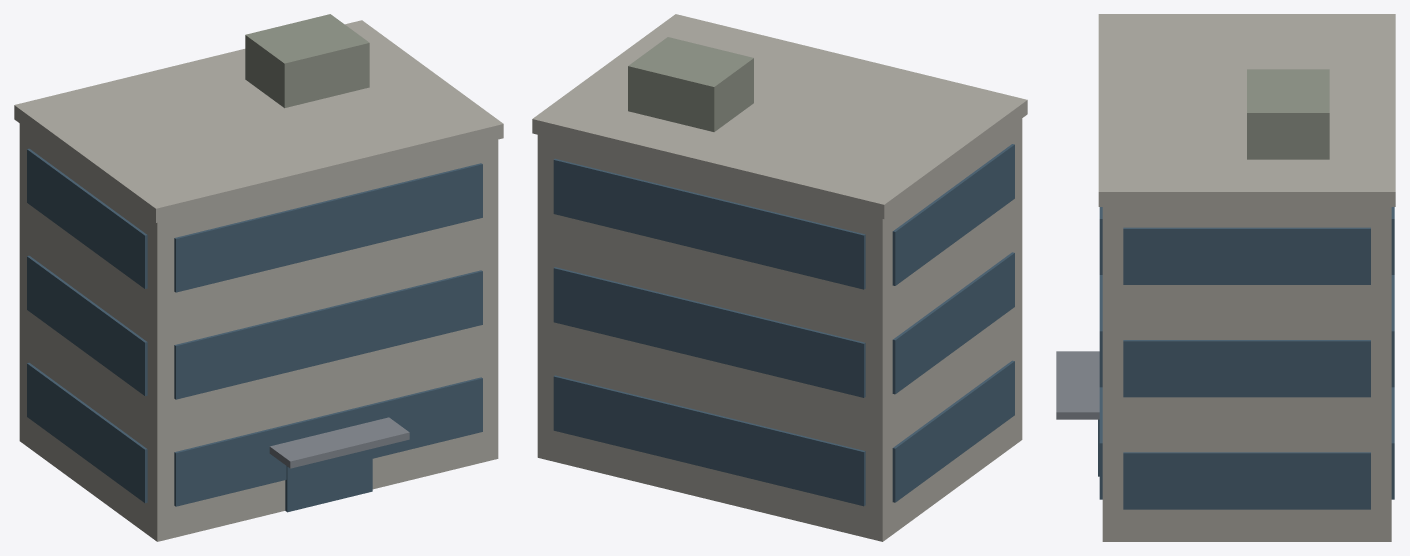
File: office_low.glb
3 renders of one model, left to right at view 1: azimuth 30°, elevation 25°; view 2: azimuth 150°, elevation 25°; view 3: azimuth 270°, elevation 25°, orthographic. The views are drawn at different scales.
Parts seen in each view (by area): view 1: office_low_mesh; view 2: office_low_mesh; view 3: office_low_mesh.
Boxes of the visible parts, <box> form: office_low_mesh: <box>14,14,503,541</box>; office_low_mesh: <box>532,14,1027,541</box>; office_low_mesh: <box>1056,14,1395,541</box>.
Bounding box in the file's own units: 0.204 × 0.213 × 0.1645.
